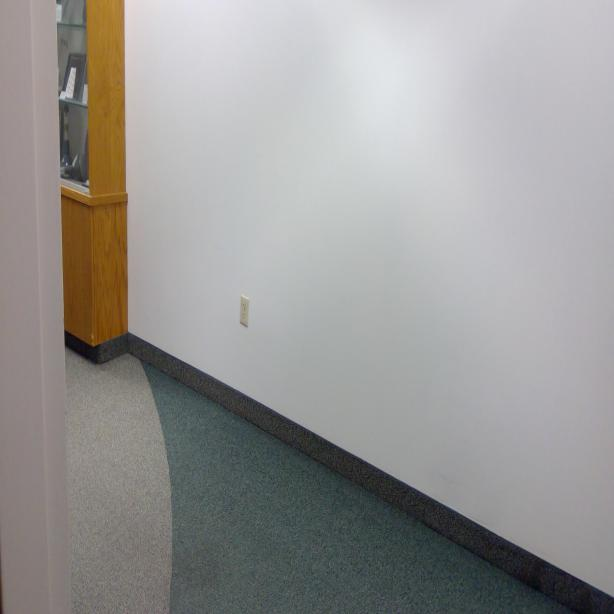typeb: (241, 301, 247, 312), (242, 311, 246, 320)
